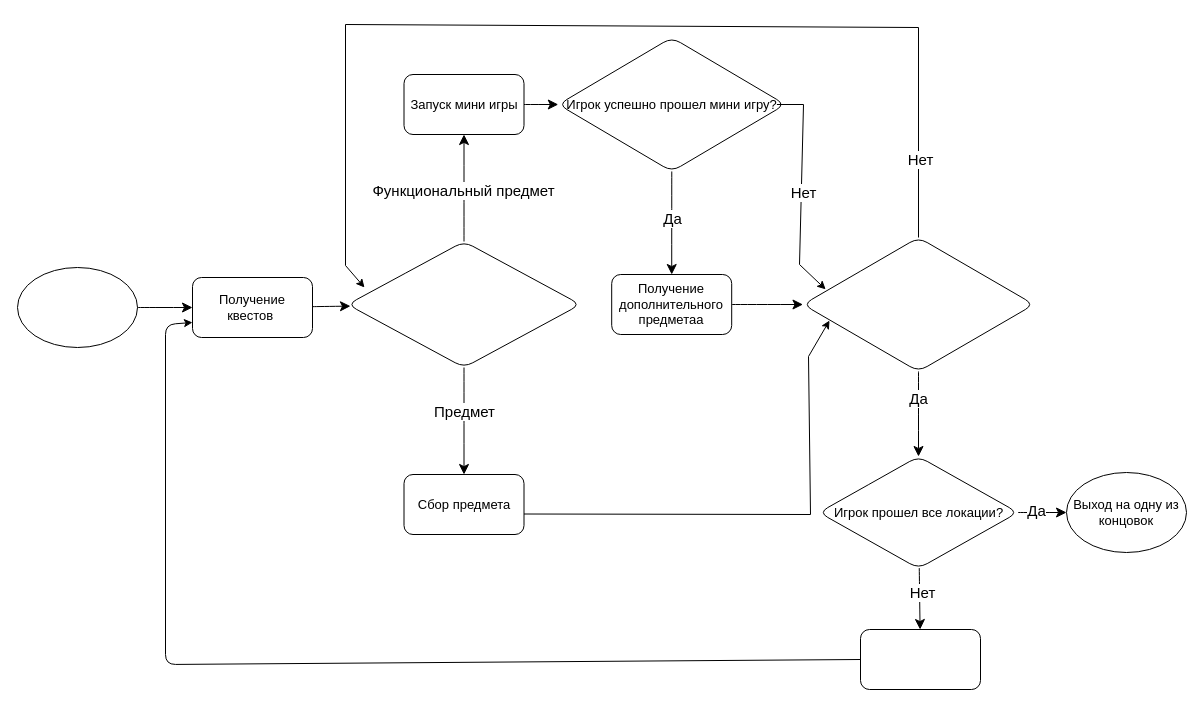
Image size: 1204x707. Some labels were removed from this diagram. Each missing label, with the centre of its shape:
"Доступ к другой локации" goes at (920,659).
"Игрок выбрал предмет или функциональный предмет?" goes at (463,304).
"Игрок собрал обязательные предметы?" goes at (918,304).
"Начало игры" goes at (77,307).
